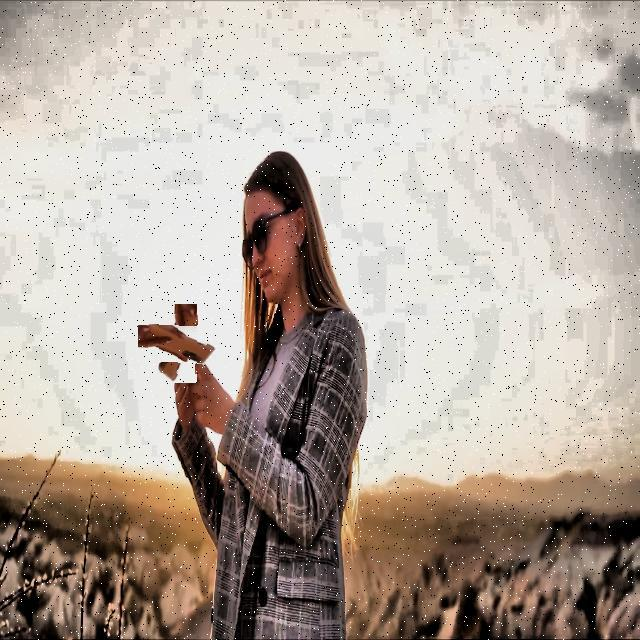Phone: (148, 314, 208, 374)
